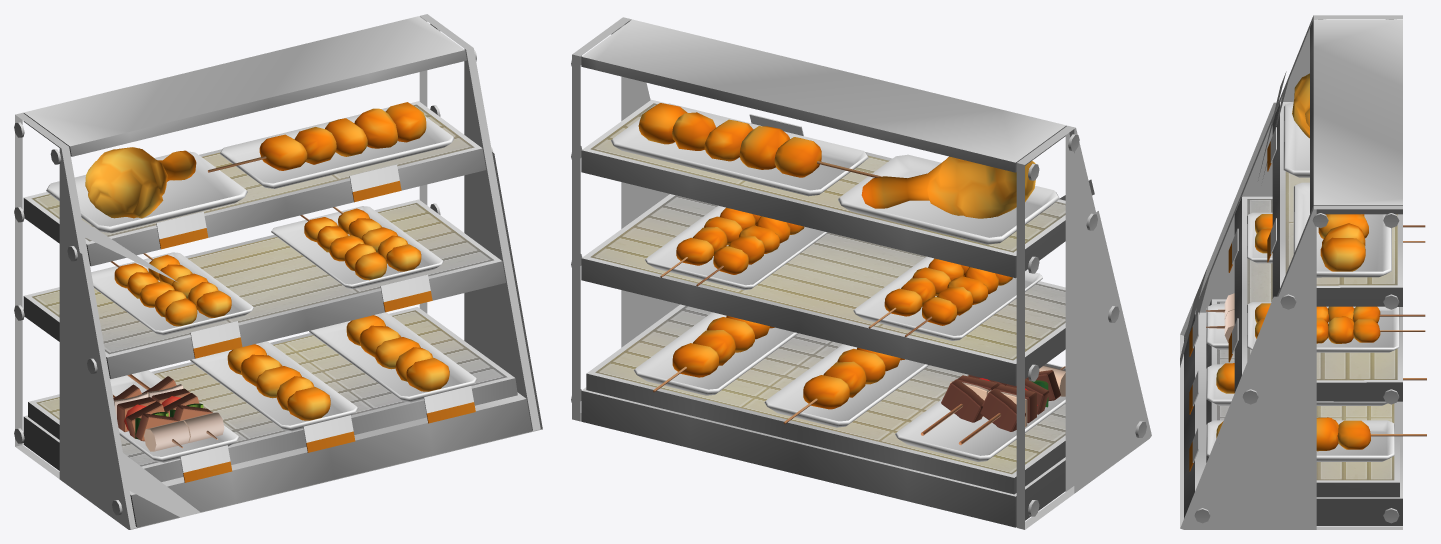
File: HG_CU_Store_lack_C.FBX
3 renders of one model, left to right at view 1: azimuth 30°, elevation 25°; view 2: azimuth 150°, elevation 25°; view 3: azimuth 270°, elevation 25°, orthographic. The views are drawn at different scales.
Visible parts, largest first — view 1: HG_CU_Store_lack_C, HG_CU_Store_lack_C_propA, HG_CU_Store_lack_C_al; view 2: HG_CU_Store_lack_C, HG_CU_Store_lack_C_propA, HG_CU_Store_lack_C_al; view 3: HG_CU_Store_lack_C, HG_CU_Store_lack_C_al, HG_CU_Store_lack_C_propA.
Part boxes in pixels (left/top/right/bottom): HG_CU_Store_lack_C: left=14, top=16, right=532, bottom=527; HG_CU_Store_lack_C_propA: left=46, top=102, right=477, bottom=462; HG_CU_Store_lack_C_al: left=15, top=14, right=542, bottom=529; HG_CU_Store_lack_C: left=571, top=19, right=1146, bottom=527; HG_CU_Store_lack_C_propA: left=611, top=103, right=1065, bottom=461; HG_CU_Store_lack_C_al: left=572, top=17, right=1151, bottom=529; HG_CU_Store_lack_C: left=1184, top=19, right=1402, bottom=525; HG_CU_Store_lack_C_al: left=1180, top=15, right=1402, bottom=529; HG_CU_Store_lack_C_propA: left=1206, top=73, right=1426, bottom=461.
Bounding box in the file's own units: 54.77 × 29 × 41.74.
